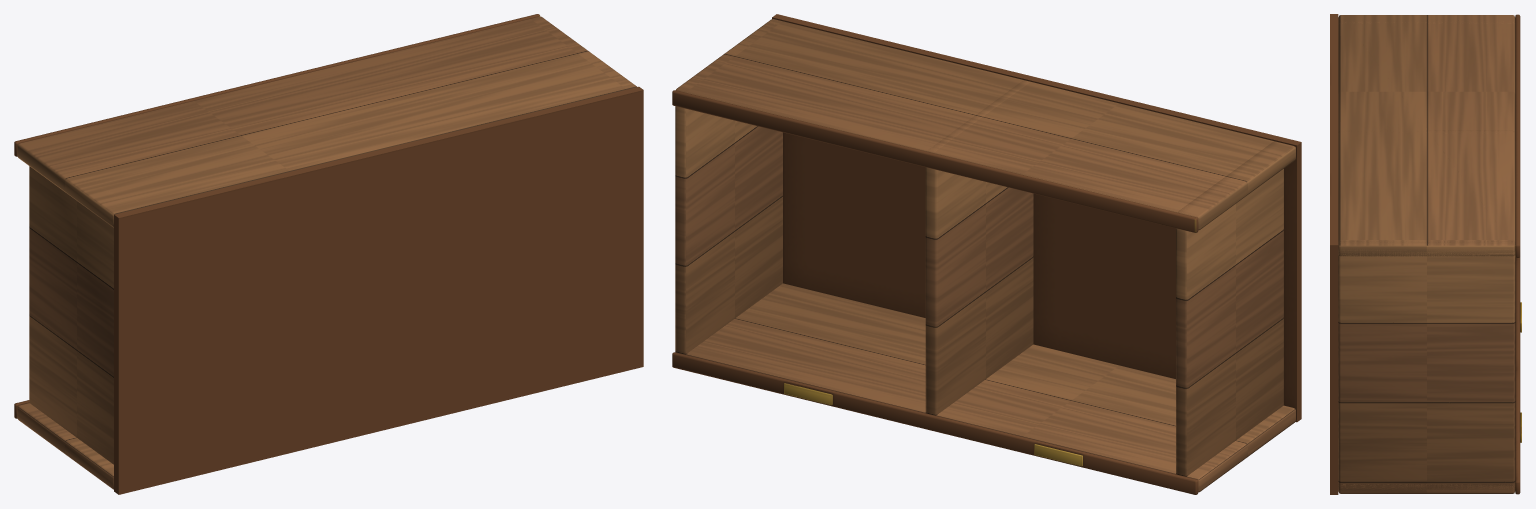
The model's file is itemshelf_2x1.fbx.
The picture shows the model from 3 angles, left to right: view 1: azimuth 30°, elevation 25°; view 2: azimuth 150°, elevation 25°; view 3: azimuth 270°, elevation 25°; orthographic projection. The views are drawn at different scales.
Visible parts, largest first — view 1: itemshelf_2x1; view 2: itemshelf_2x1; view 3: itemshelf_2x1.
Part boxes in pixels (x1=…): itemshelf_2x1: x1=14, y1=14, x2=643, y2=494; itemshelf_2x1: x1=672, y1=14, x2=1301, y2=494; itemshelf_2x1: x1=1330, y1=14, x2=1521, y2=494.
Size of the model in its own units: 1.3 by 0.655 by 0.456.
